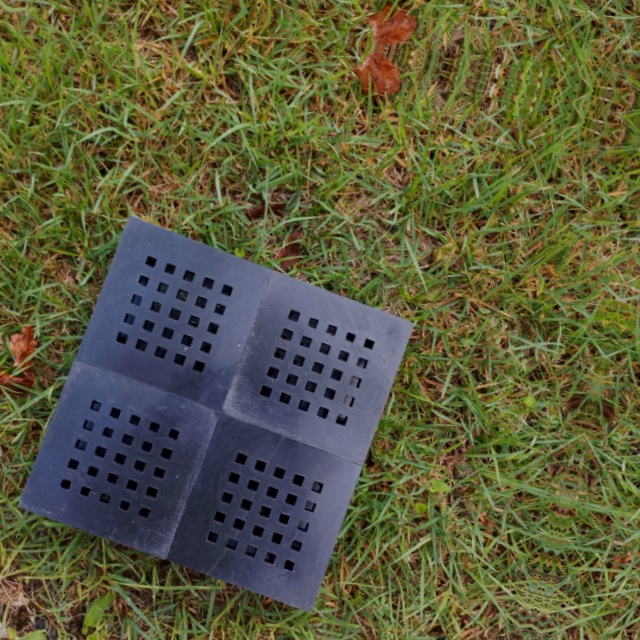pallet: (11, 193, 432, 620)
